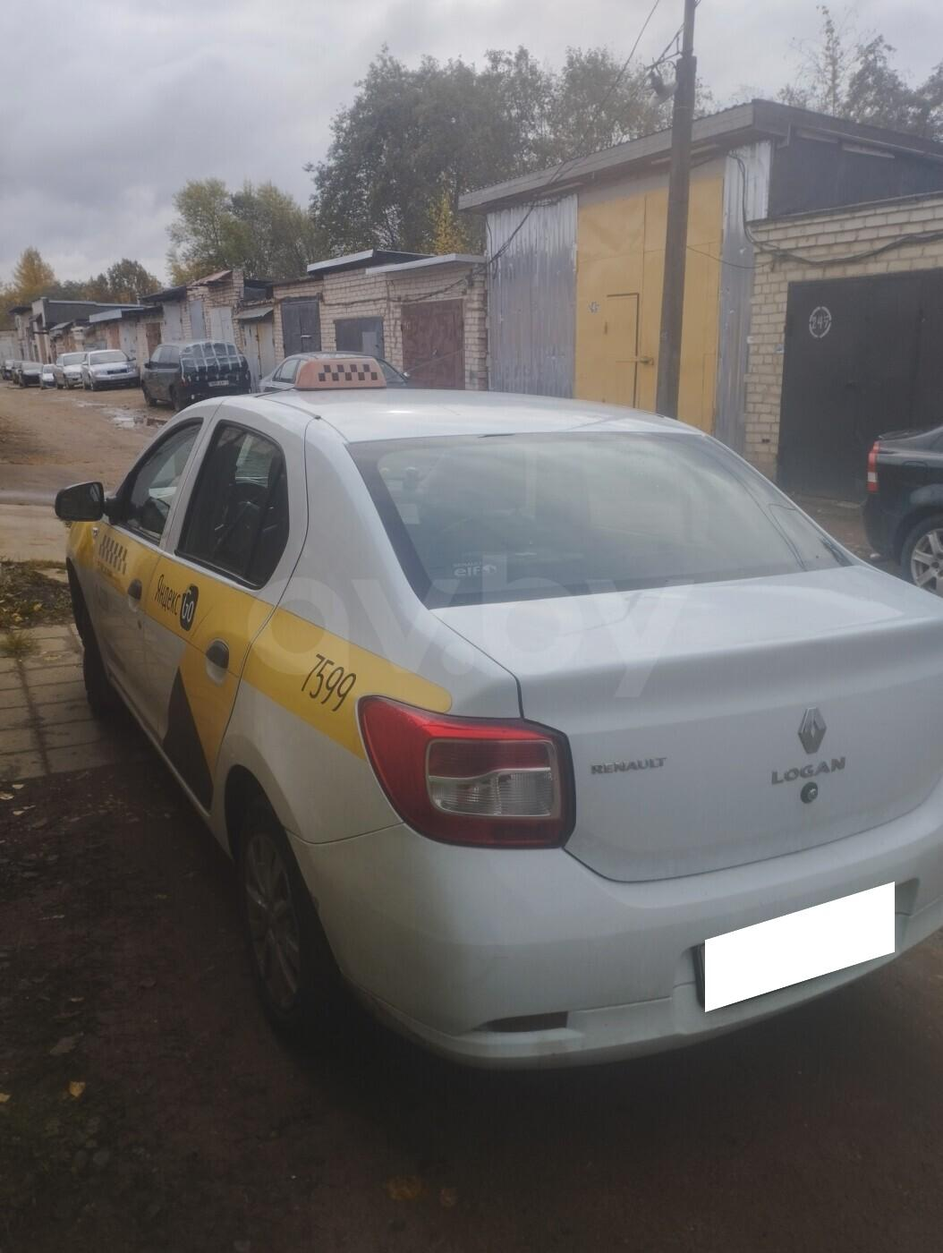Logan_2013-2018: (57, 379, 943, 1094)
